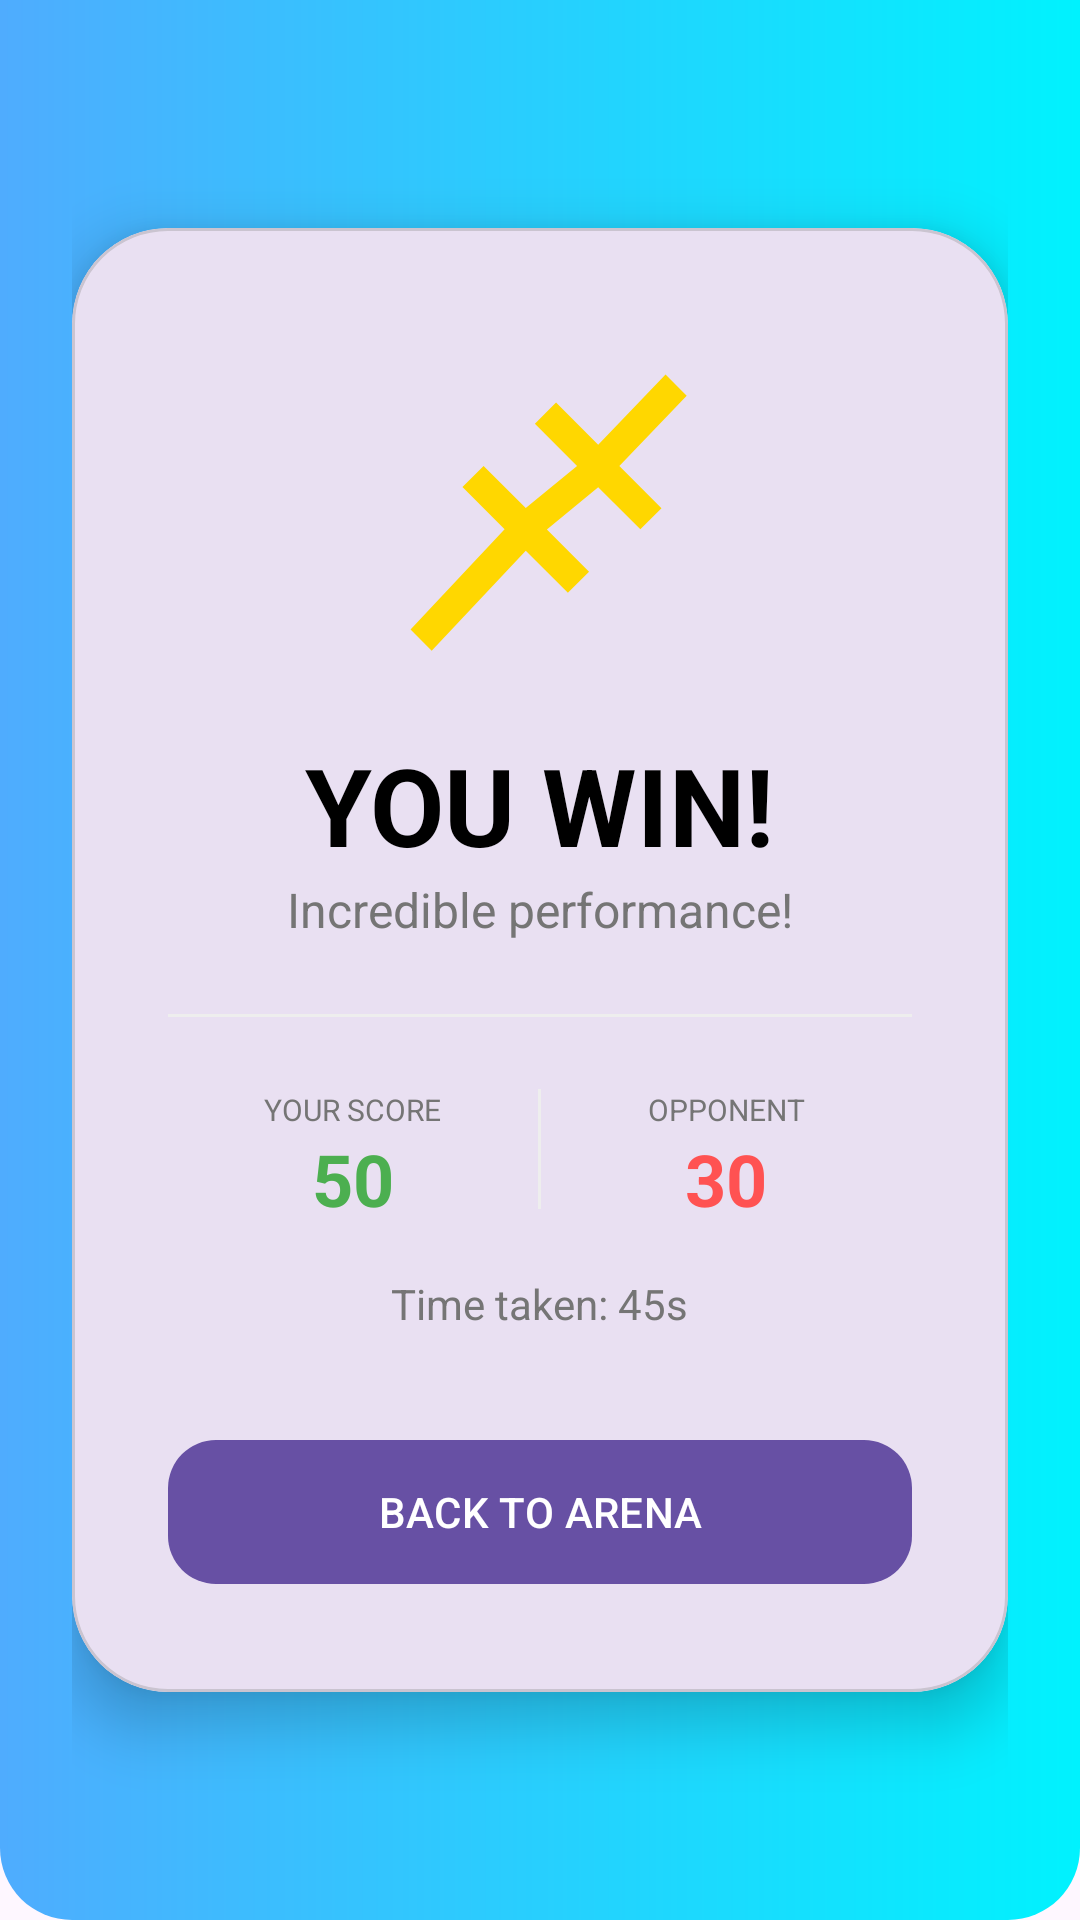

Named icons in this screenshot (1080px×1920px) and their bounding boxes, BBox(x1, y1, x2, y2):
battle: BBox(410, 374, 687, 651)
